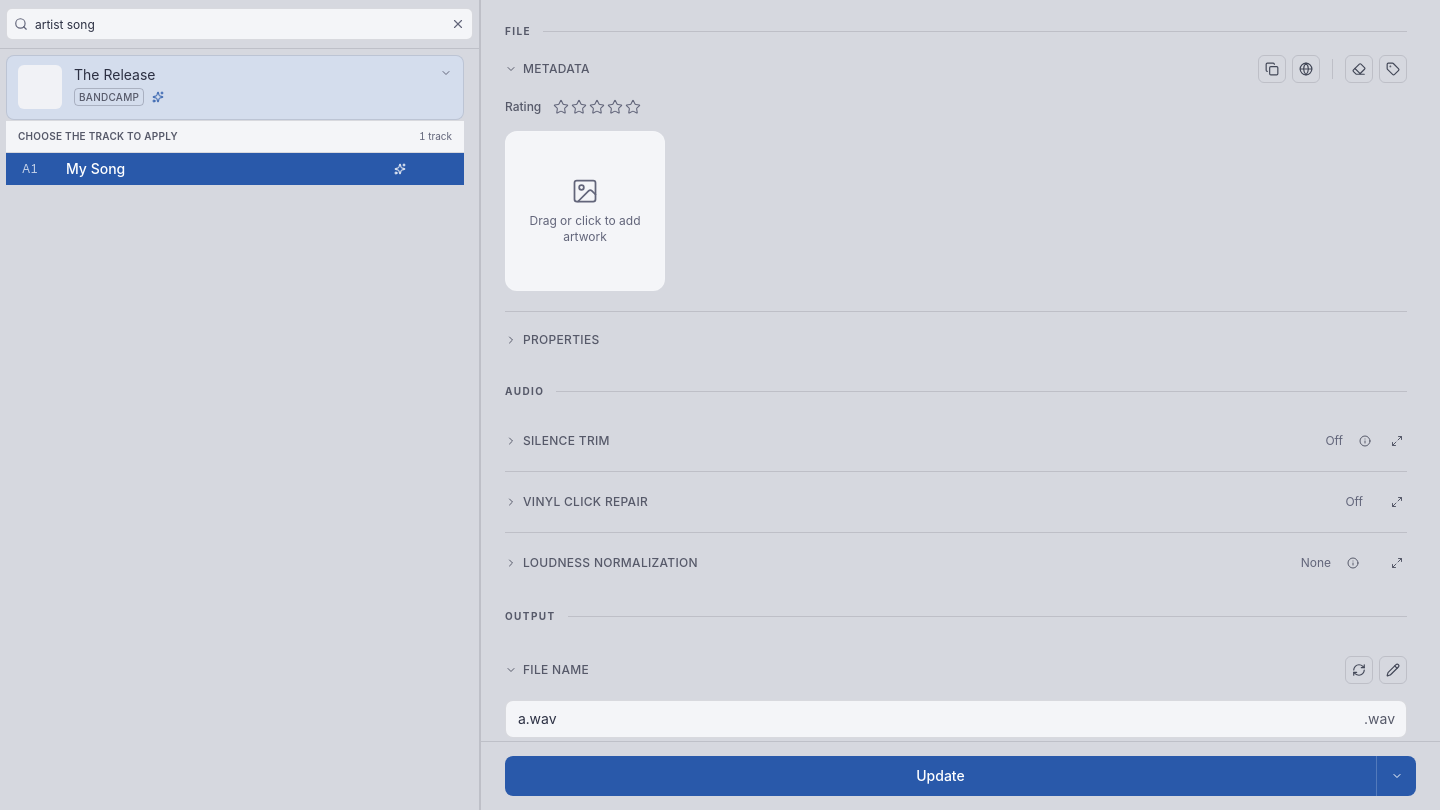
Test case: Editor Discogs loading skeleton › marks a suggested candidate with a sparkle whose label is in the tooltip
Hover over the element with test id "result-suggested" at point(158, 97), box [152,91,164,103]
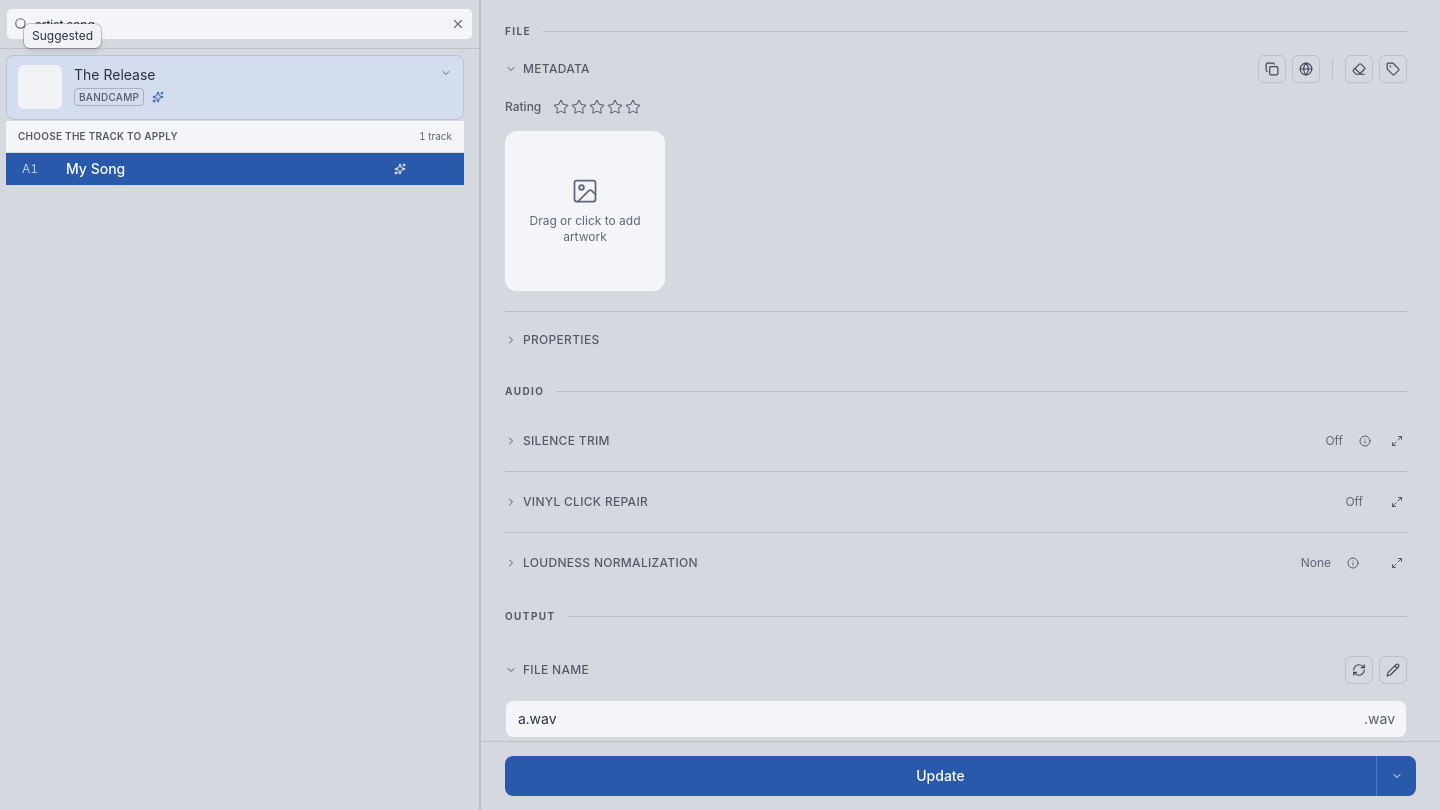
Check: the tooltip reads "Suggested", box [32,28,93,43]
